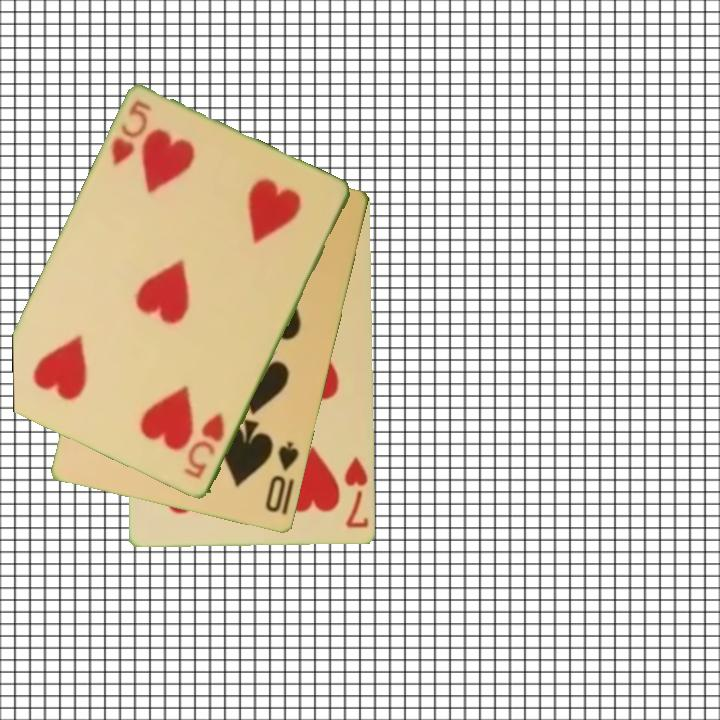10s: (262, 438, 302, 516)
5h: (108, 96, 155, 170), (180, 410, 228, 482)
7h: (342, 455, 372, 532)
